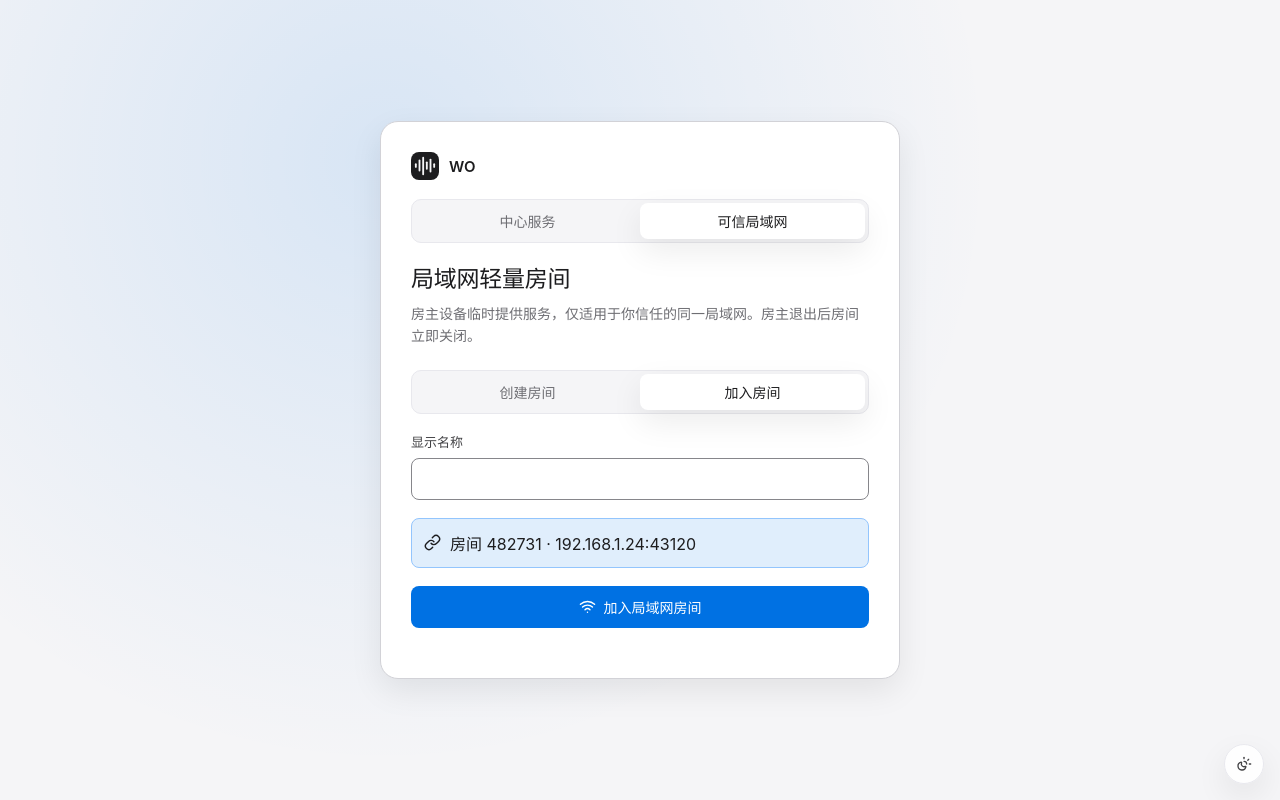
Test: desktop account and room workflow › joins a trusted-LAN room from a keyed deep link
Type "访客" into the field named "显示名称".
click(640, 479); type("访客")  # box [411,458,869,500]
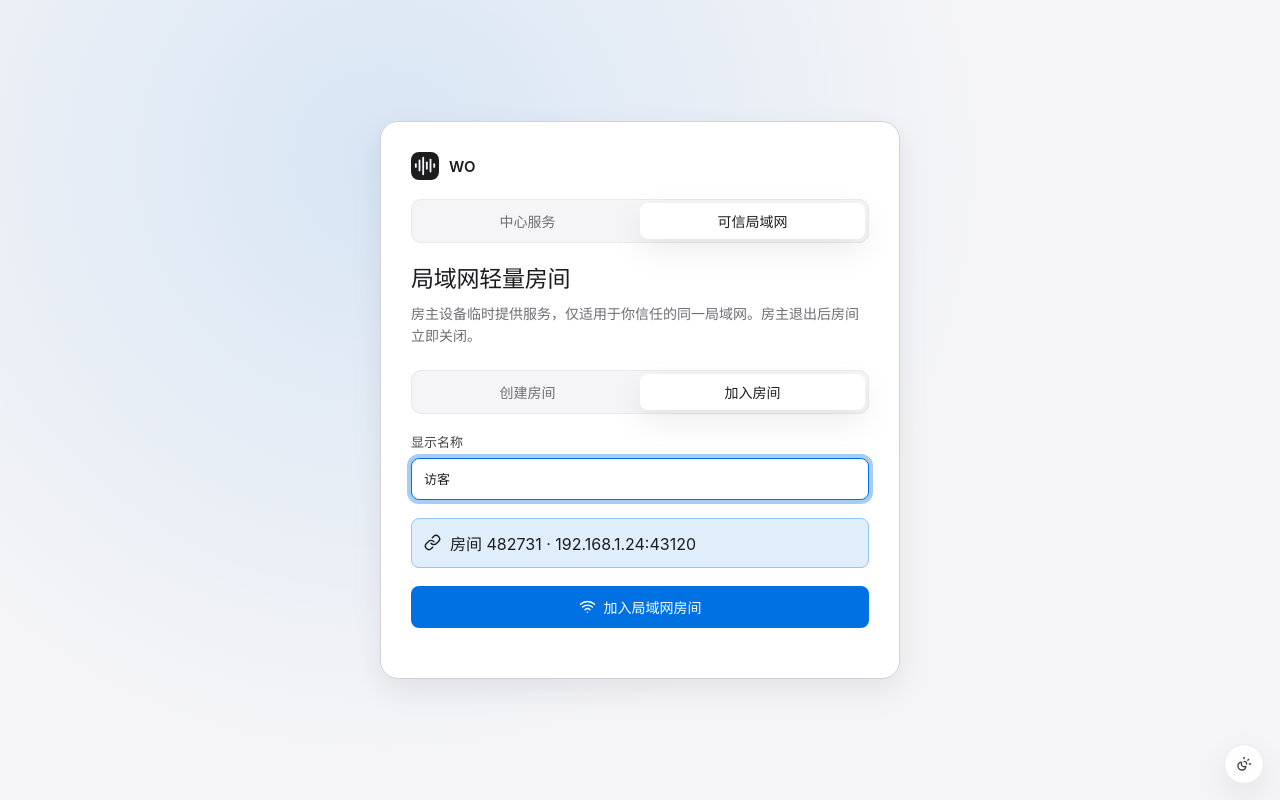
Click the button named "加入局域网房间".
click(640, 607)  # box [411,586,869,628]
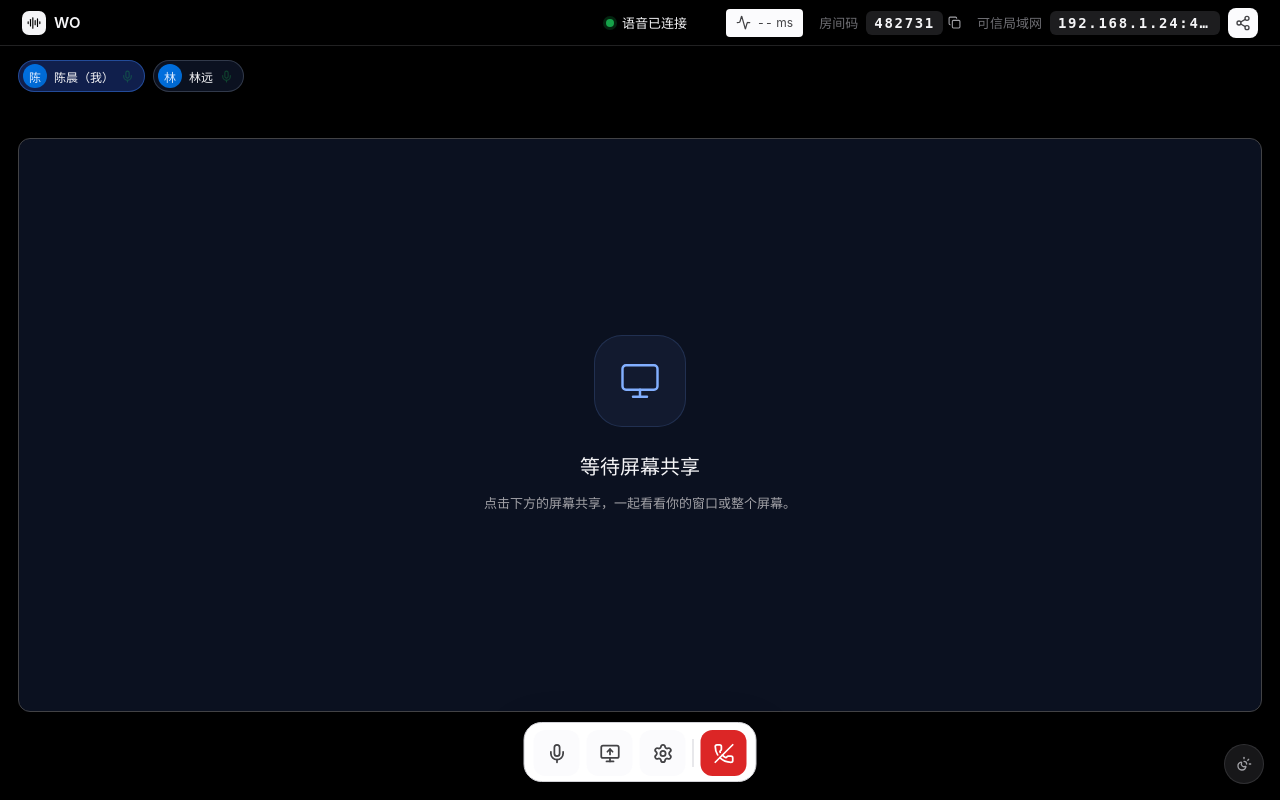
Expected: the 2nd text "语音已连接" is shown, [622,15,687,31]
